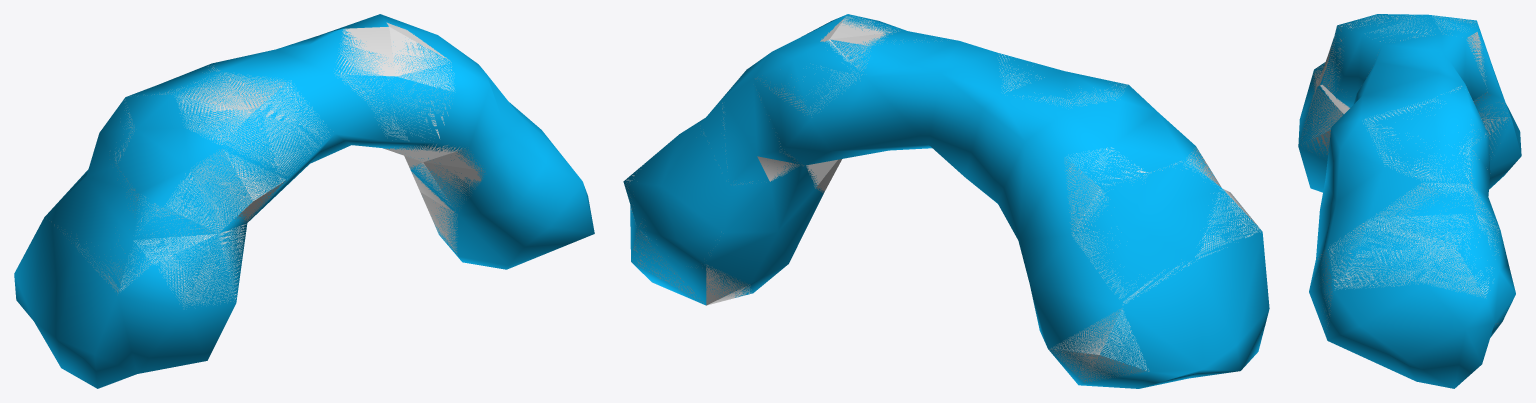
File: PF_Rock_Arch.glb
3 views of the same model, side by side, from view 1: azimuth 30°, elevation 25°; view 2: azimuth 150°, elevation 25°; view 3: azimuth 270°, elevation 25° (orthographic). The views are drawn at different scales.
Parts seen in each view (by area): view 1: SM_Rock_Arch-gcc-stone, SM_Rock_Arch; view 2: SM_Rock_Arch-gcc-stone, SM_Rock_Arch; view 3: SM_Rock_Arch-gcc-stone, SM_Rock_Arch.
Part boxes in pixels (<box>): SM_Rock_Arch-gcc-stone: <box>14,14,594,388</box>; SM_Rock_Arch: <box>51,22,485,306</box>; SM_Rock_Arch-gcc-stone: <box>623,14,1269,388</box>; SM_Rock_Arch: <box>625,16,1260,382</box>; SM_Rock_Arch-gcc-stone: <box>1298,14,1521,388</box>; SM_Rock_Arch: <box>1300,14,1509,328</box>.
Size of the model in its own units: 33.83 by 16.11 by 14.12.
